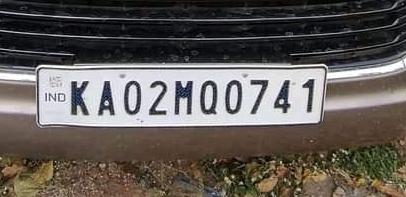0: (223, 78, 245, 115)
1: (297, 75, 317, 120)
2: (148, 77, 168, 118)
4: (272, 76, 293, 116)
7: (247, 77, 271, 120)
A: (95, 77, 118, 119), (121, 78, 144, 119)
K: (68, 77, 91, 118)
M: (172, 77, 196, 117)
Q: (199, 77, 220, 118)
